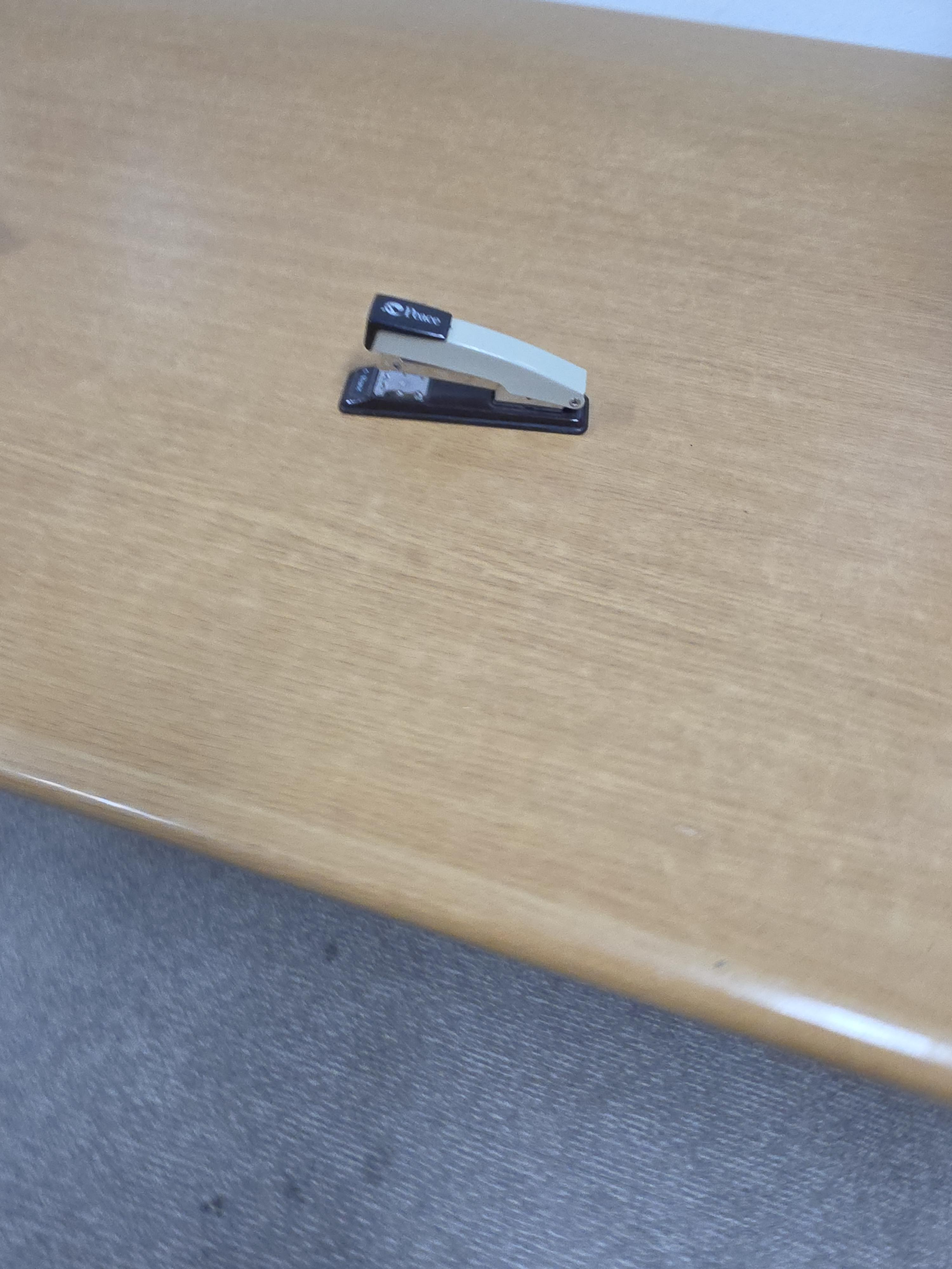stapler: (338, 292, 591, 436)
